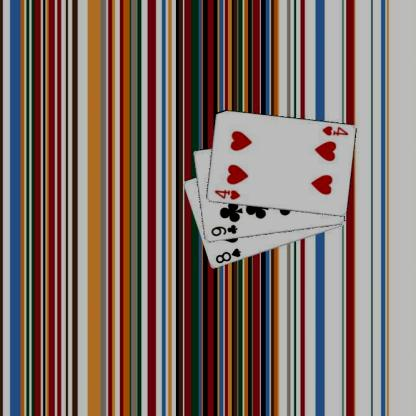4H: (319, 123, 349, 137), (212, 187, 241, 201)
8S: (213, 246, 242, 265)
9C: (208, 222, 239, 238)
